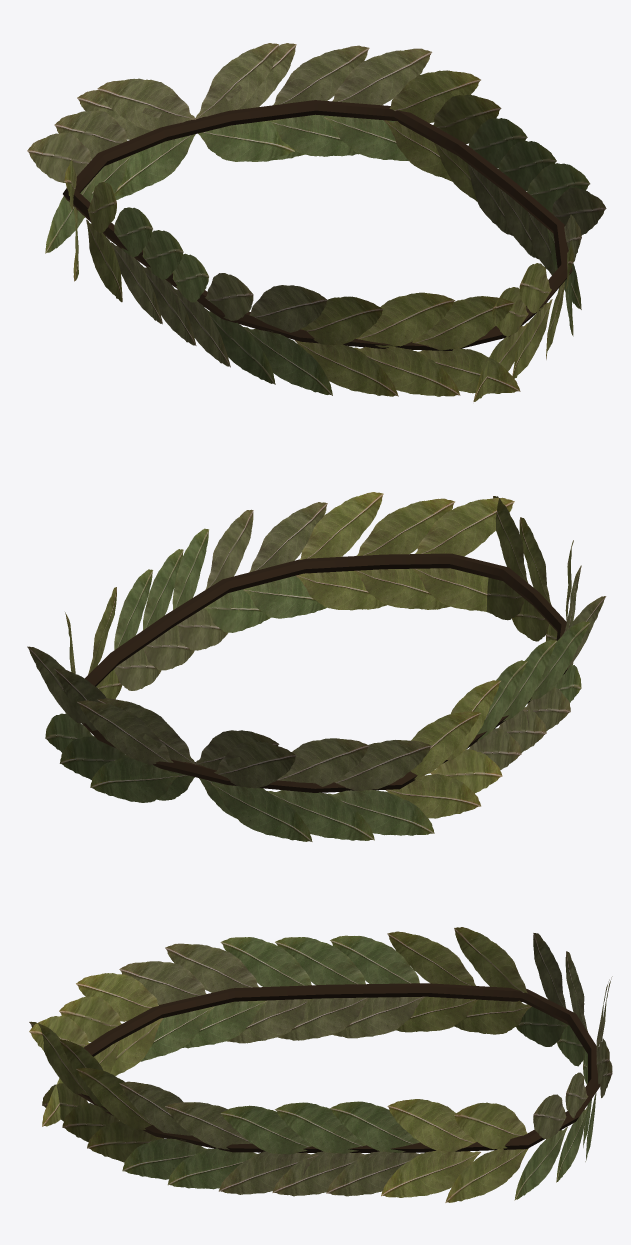
The model's file is OliveCrownOnGround.FBX.
3 views of the same model, one above another, from view 1: azimuth 30°, elevation 25°; view 2: azimuth 150°, elevation 25°; view 3: azimuth 270°, elevation 25° (orthographic). The views are drawn at different scales.
Parts seen in each view (by area): view 1: Olive_Crown001; view 2: Olive_Crown001; view 3: Olive_Crown001.
Part boxes in pixels (bbox=[...]): Olive_Crown001: bbox=[27, 43, 606, 401]; Olive_Crown001: bbox=[27, 492, 606, 841]; Olive_Crown001: bbox=[29, 927, 612, 1202].
Bounding box in the file's own units: 17.49 × 6.21 × 22.25.
